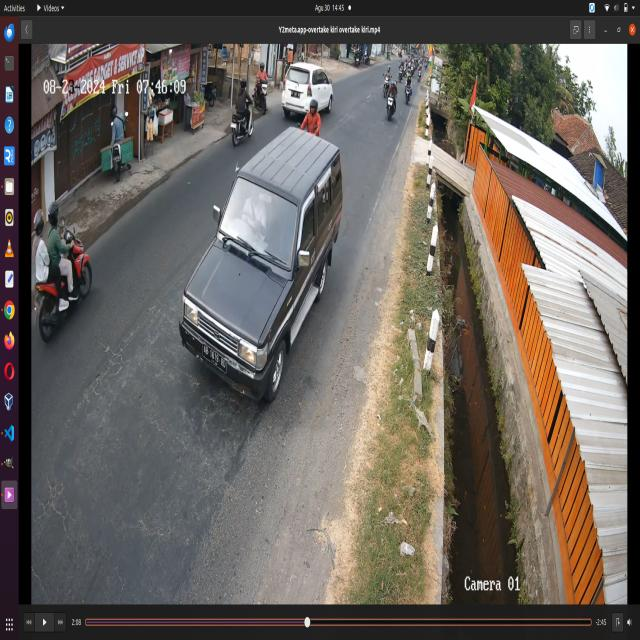person_with_seatbelt: (232, 177, 275, 250)
